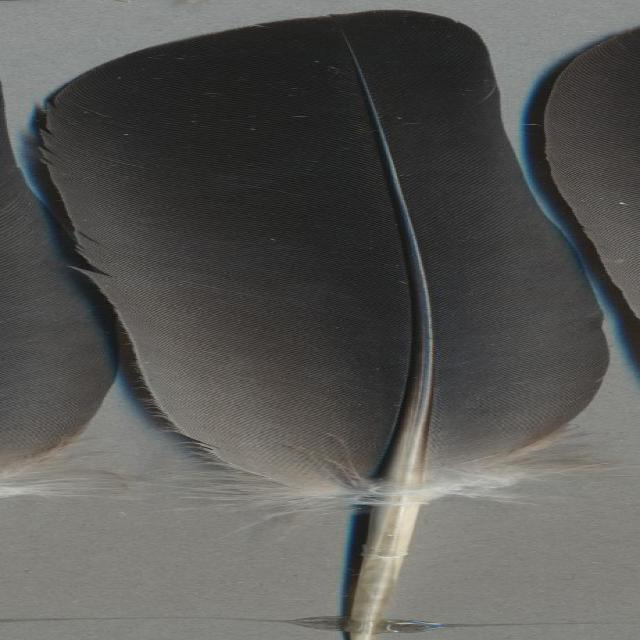feather: (28, 5, 618, 640)
